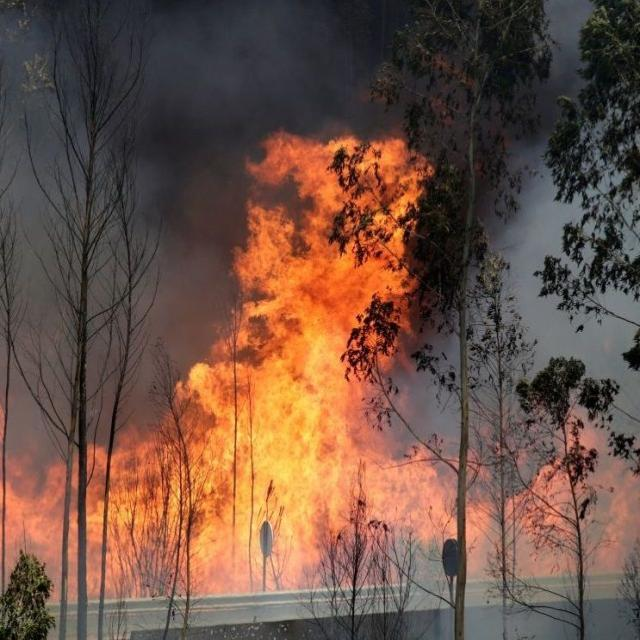Fire: (16, 150, 628, 572)
Smoke: (76, 5, 602, 352)
